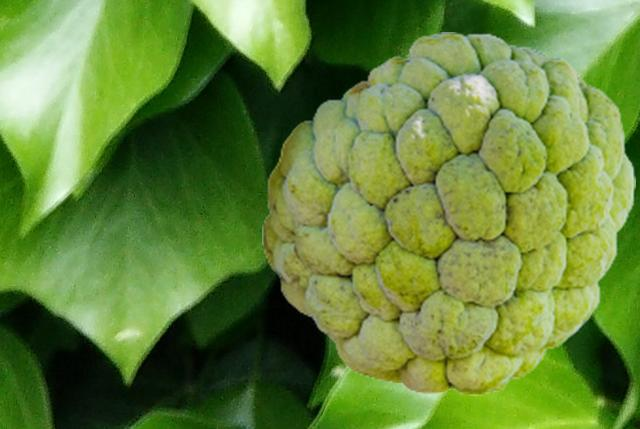atis: (262, 32, 634, 394)
